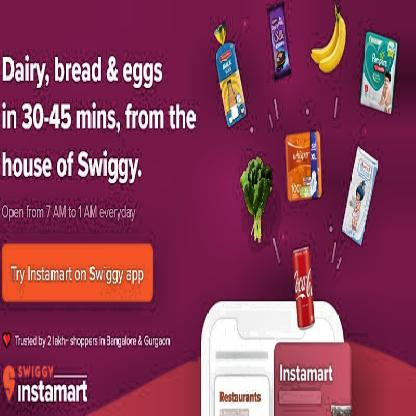Swiggy: (2, 364, 15, 402), (16, 366, 54, 379)
